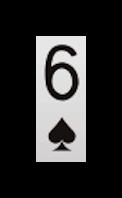6S: (39, 40, 83, 155)
